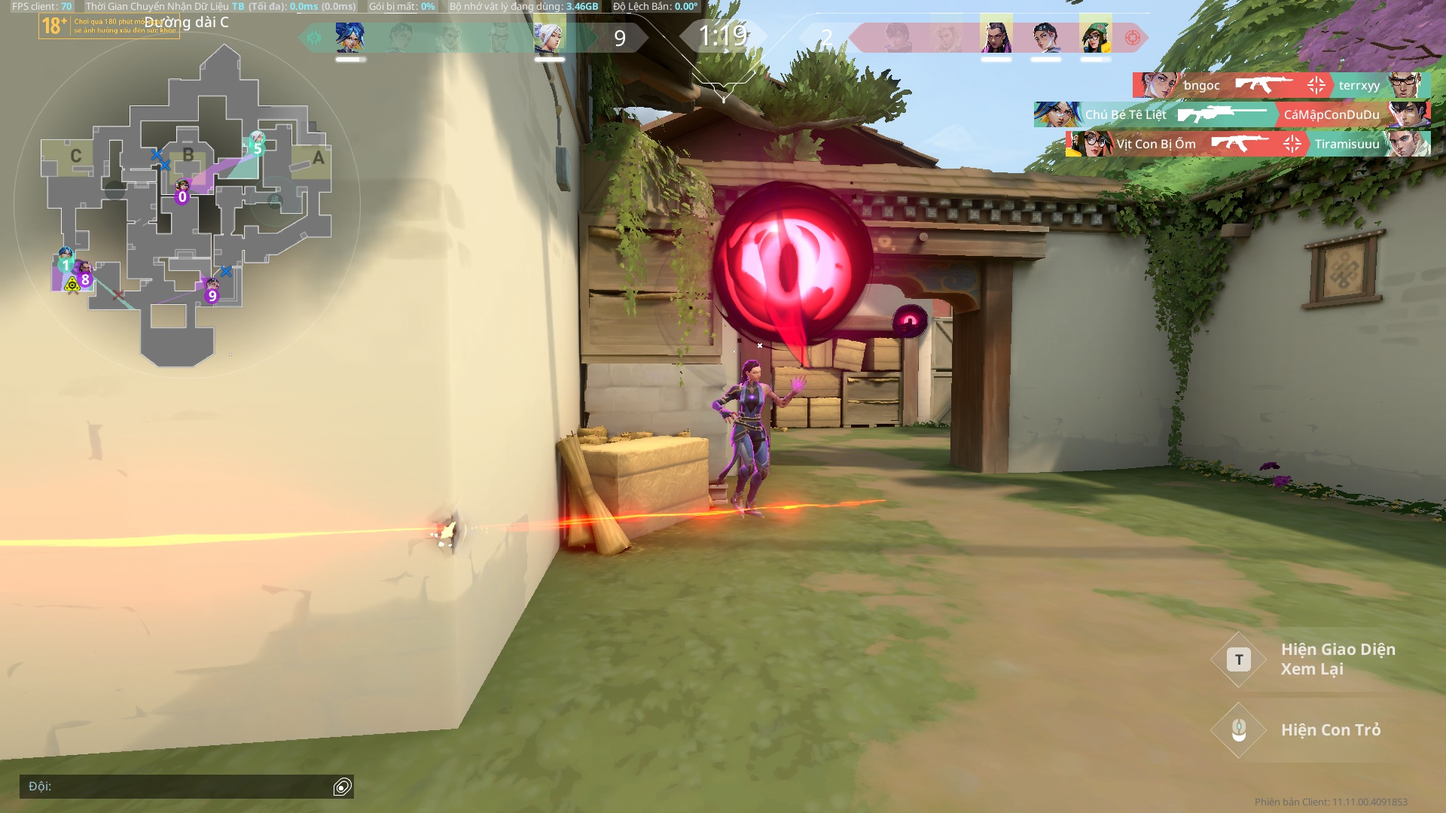body: (732, 382, 767, 413)
head: (741, 358, 762, 384)
